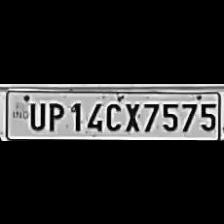1: (66, 98, 82, 132)
4: (83, 99, 103, 131)
5: (196, 99, 218, 131), (158, 99, 178, 131)
7: (140, 98, 158, 132), (178, 98, 196, 132)
C: (102, 99, 122, 131)
P: (44, 98, 66, 132)
U: (25, 98, 45, 130)
X: (122, 98, 140, 132)
